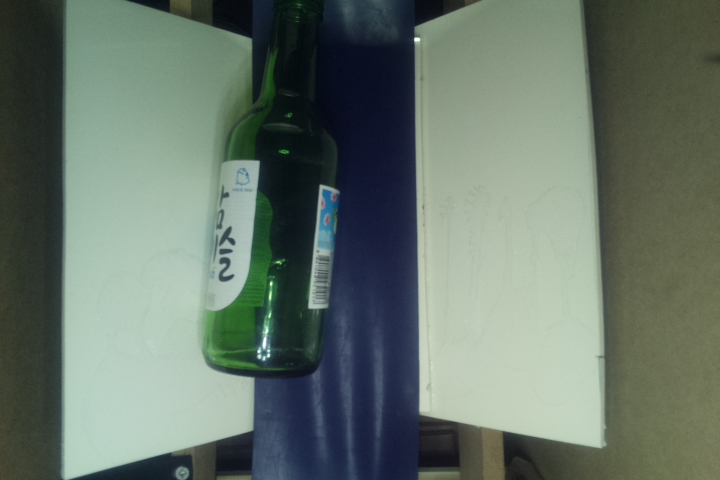soju: (200, 1, 346, 379)
